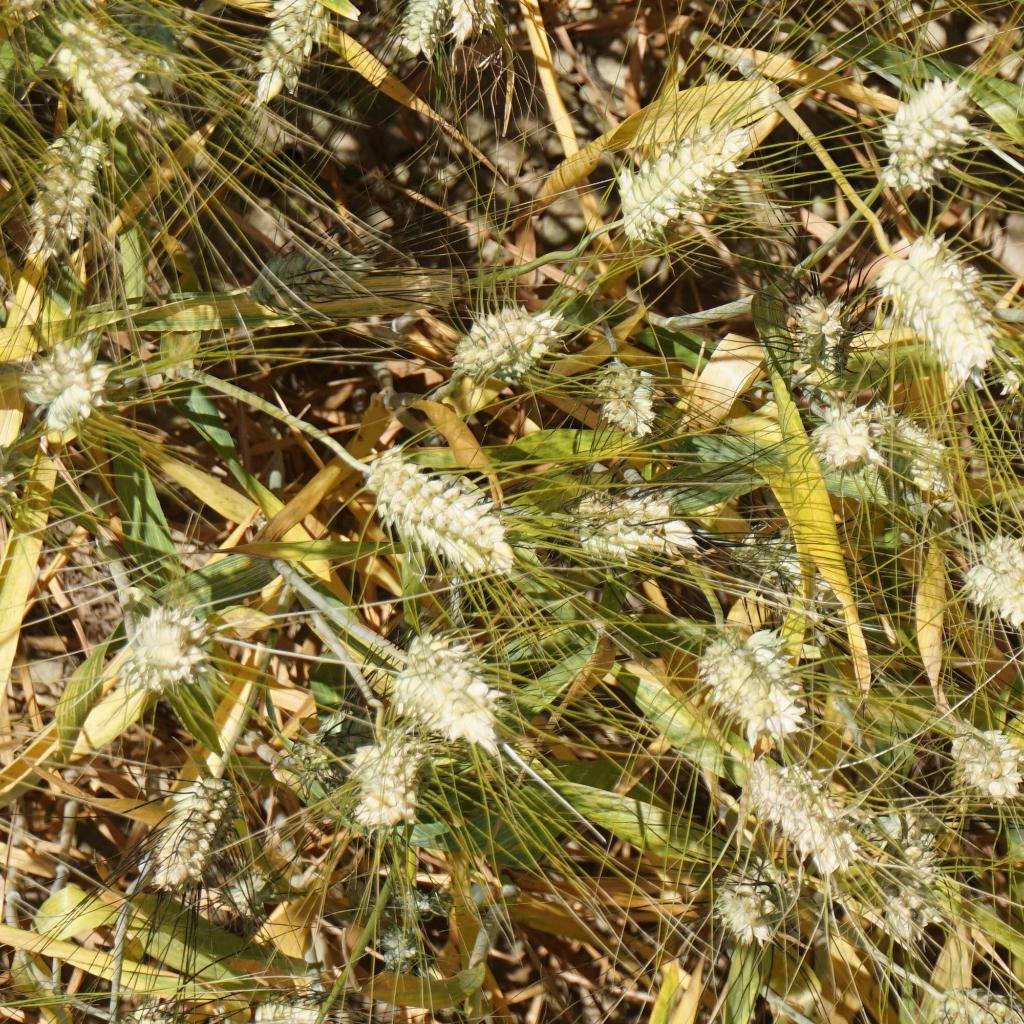0-0: (361, 459, 522, 585), (888, 235, 1001, 387), (685, 623, 804, 750), (379, 640, 504, 750), (615, 117, 722, 231), (581, 486, 716, 575), (748, 761, 862, 864), (117, 598, 207, 716), (236, 238, 380, 311), (20, 132, 102, 257), (886, 75, 968, 191), (155, 766, 224, 897), (451, 308, 555, 394), (58, 25, 150, 121), (19, 340, 107, 433), (739, 521, 840, 602), (930, 718, 1017, 809), (712, 865, 796, 957), (594, 350, 659, 450), (347, 737, 421, 823), (963, 526, 1024, 630), (256, 0, 320, 99), (882, 412, 953, 499), (787, 290, 852, 376), (873, 878, 944, 944), (932, 978, 1016, 1024), (882, 804, 942, 865), (814, 406, 871, 470), (367, 916, 424, 974), (204, 868, 262, 923), (249, 986, 329, 1024), (390, 0, 438, 52), (0, 432, 24, 516), (441, 0, 504, 31)
